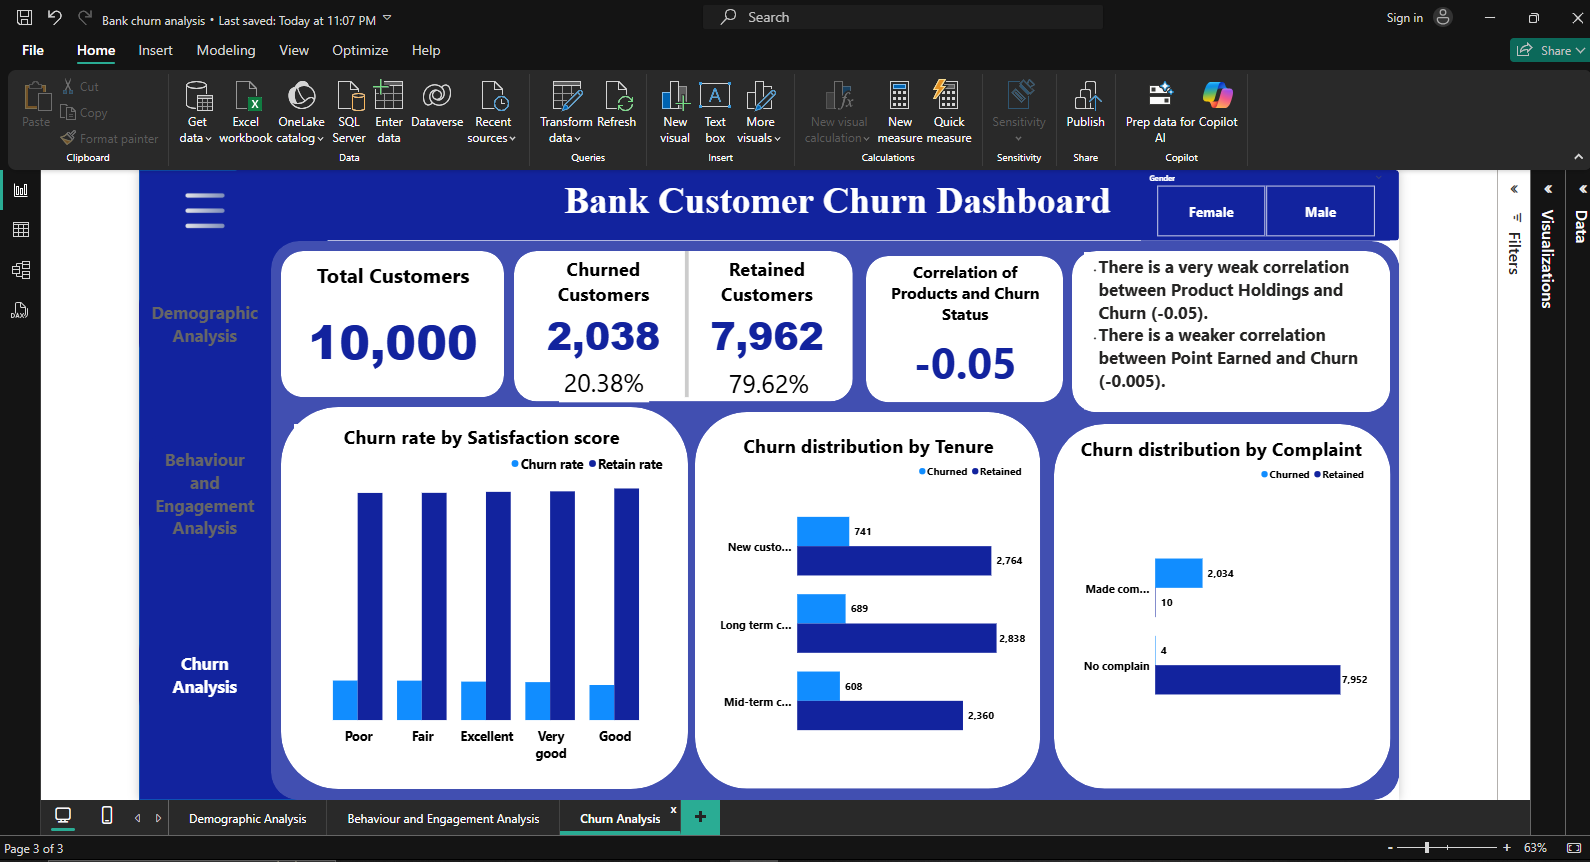

What the dashboard file says about the page in this screenshot:
{"tool":"powerbi","page":{"name":"Churn Analysis","canvas":[2000,1000],"ordinal":2},"visuals":[{"type":"shape","box":[0,0,299.2,1000],"z":0},{"type":"shape","box":[208.8,112.4,1791.2,887.6],"z":1000},{"type":"shape","box":[150.6,0,1849.4,112.4],"z":2000},{"type":"textbox","box":[375.5,10,1465.9,90.4],"z":3000},{"type":"image","box":[50.2,28.1,108.4,72.3],"z":4000},{"type":"actionButton","box":[0,182.7,208.8,122.5],"z":5000},{"type":"actionButton","box":[0,417.7,208.8,192.8],"z":6000},{"type":"actionButton","box":[0,722.9,208.8,158.6],"z":7000},{"type":"shape","box":[1481.1,128.9,505.2,256],"z":8000},{"type":"shape","box":[883.2,384.9,548.1,597.9],"z":9000},{"type":"shape","box":[225.1,376.3,646,606.5],"z":10000},{"type":"shape","box":[594.5,128.9,537.8,238.8],"z":11000},{"type":"shape","box":[225.1,128.9,354,232],"z":12000},{"type":"shape","box":[1154.6,135.7,312.7,232],"z":13000},{"type":"card","title":"Total Customers","fields":{"Values":["All Measures.Total Customers"]},"box":[245.7,144.3,314.4,202.7],"z":14000},{"type":"card","title":"Correlation of Products and Churn Status","fields":{"Values":["All Measures.correlation product"]},"box":[1171.8,144.3,280.1,216.5],"z":15000},{"type":"clusteredBarChart","title":"Churn distribution by Tenure","fields":{"Y":["All Measures.Churned","All Measures.Retained"],"Category":["Customer_Churn_Records.Tenure Range"]},"box":[905.5,417.5,506.9,530.9],"z":16000},{"type":"shape","box":[718.2,128.9,304.1,232],"z":17000},{"type":"clusteredColumnChart","title":"Churn rate by Satisfaction score","fields":{"Category":["Customer_Churn_Records (2).Satisfaction rating"],"Y":["All Measures.Churn rate","All Measures.Retain rate"]},"box":[245.7,403.8,596.2,543],"z":18000},{"type":"card","title":"Churned Customers","fields":{"Values":["All Measures.Churned"]},"box":[611.7,135.7,252.6,168.4],"z":19000},{"type":"card","fields":{"Values":["All Measures.% Churn rate"]},"box":[666.7,304.1,142.6,63.6],"z":20000},{"type":"card","title":"Retained Customers","fields":{"Values":["All Measures.Retained"]},"box":[883.2,135.7,228.5,168.4],"z":21000},{"type":"card","fields":{"Values":["All Measures.% Retained rate"]},"box":[927.8,311,142.6,53.3],"z":22000},{"type":"textbox","box":[1499.5,130.2,455.7,250.3],"z":23000},{"type":"shape","box":[1451.9,403.8,534.4,579],"z":24000},{"type":"clusteredBarChart","title":"Churn distribution by Complaint","fields":{"Y":["All Measures.Churned","All Measures.Retained"],"Category":["Customer_Churn_Records.Complain"]},"box":[1481.1,422.7,474.2,530.9],"z":25000},{"type":"slicer","fields":{"Values":["Customer_Churn_Records.Gender"]},"box":[1591,0,394.7,111.9],"z":26000}]}

Visuals, with their boxes on the page's 2000x1000 design canvas (x1, y1, x2, y2). These are canvas units, not pixel positions in the 1590x862 screenshot, which may show the page scaled, cropped or inside an application window:
shape: (0,0,299,1000)
shape: (209,112,2000,1000)
shape: (151,0,2000,112)
textbox: (376,10,1841,100)
image: (50,28,159,100)
actionButton: (0,183,209,305)
actionButton: (0,418,209,610)
actionButton: (0,723,209,882)
shape: (1481,129,1986,385)
shape: (883,385,1431,983)
shape: (225,376,871,983)
shape: (594,129,1132,368)
shape: (225,129,579,361)
shape: (1155,136,1467,368)
"Total Customers" card: (246,144,560,347)
"Correlation of Products and Churn Status" card: (1172,144,1452,361)
"Churn distribution by Tenure" clusteredBarChart: (906,418,1412,948)
shape: (718,129,1022,361)
"Churn rate by Satisfaction score" clusteredColumnChart: (246,404,842,947)
"Churned Customers" card: (612,136,864,304)
card - All Measures.% Churn rate: (667,304,809,368)
"Retained Customers" card: (883,136,1112,304)
card - All Measures.% Retained rate: (928,311,1070,364)
textbox: (1500,130,1955,380)
shape: (1452,404,1986,983)
"Churn distribution by Complaint" clusteredBarChart: (1481,423,1955,954)
slicer - Customer_Churn_Records.Gender: (1591,0,1986,112)
